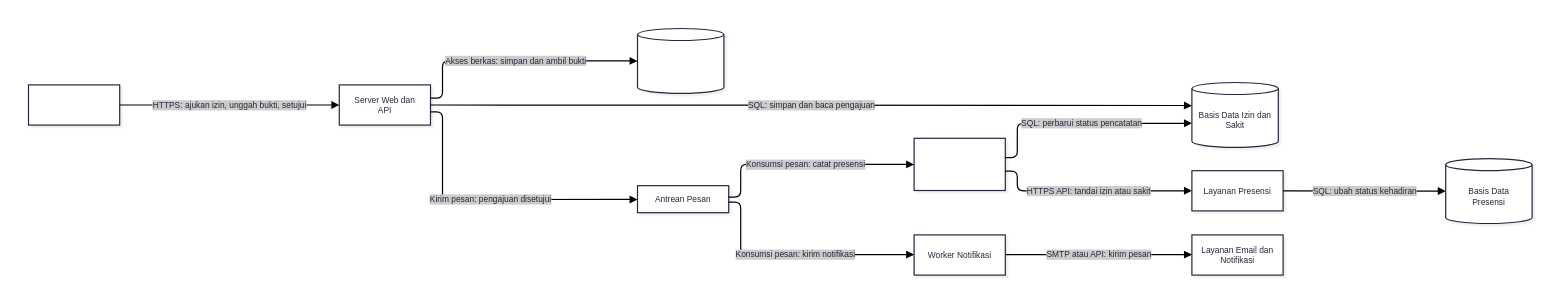
The diagram is 1545 pixels wide and 288 high, and some of its shapes have lost their labels. Each missing label, with the centre of its shape:
"Browser Pengguna" goes at (75,106).
"Penyimpanan Berkas Bukti" goes at (682,62).
"Worker Pencatatan Presensi" goes at (960,165).
